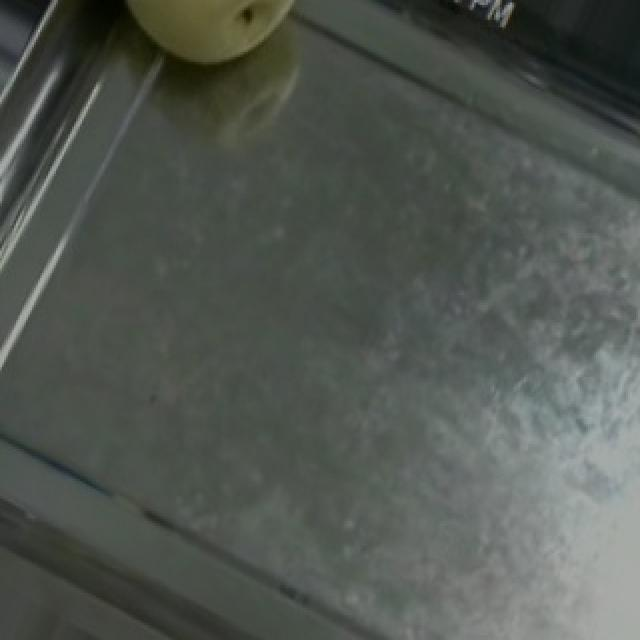Fruit: (96, 0, 338, 97)
